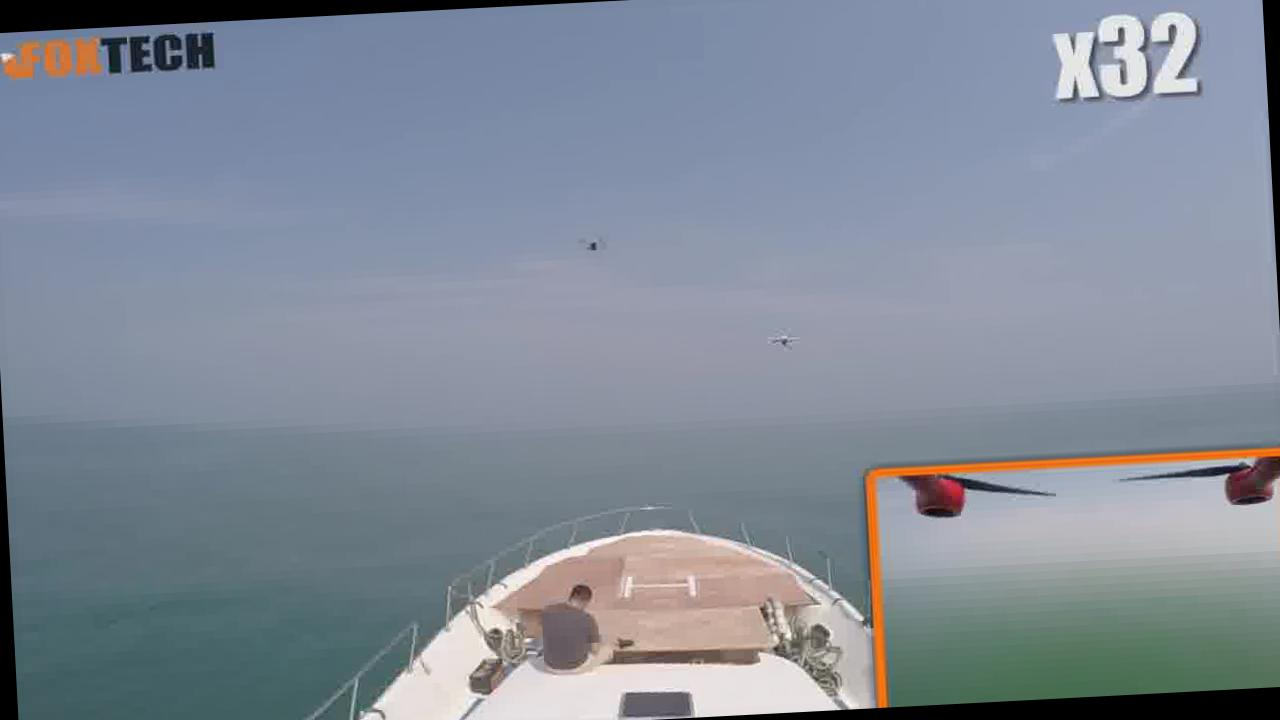drone: (560, 220, 616, 265), (762, 326, 804, 352)
